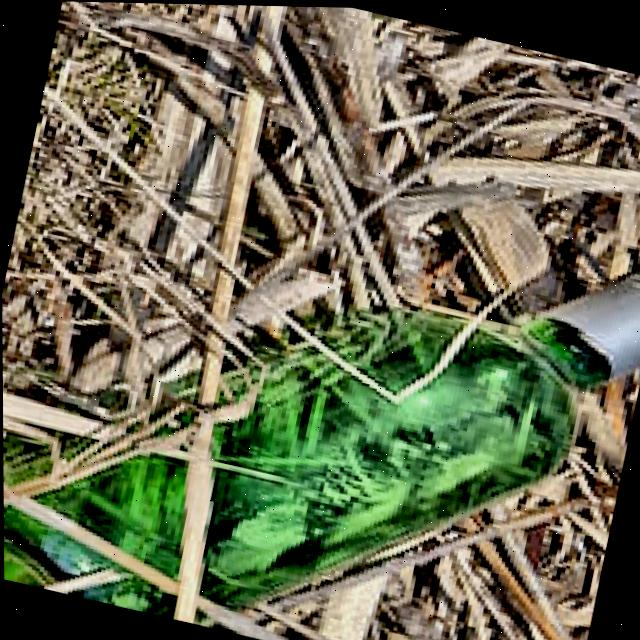glass: (3, 268, 640, 624)
